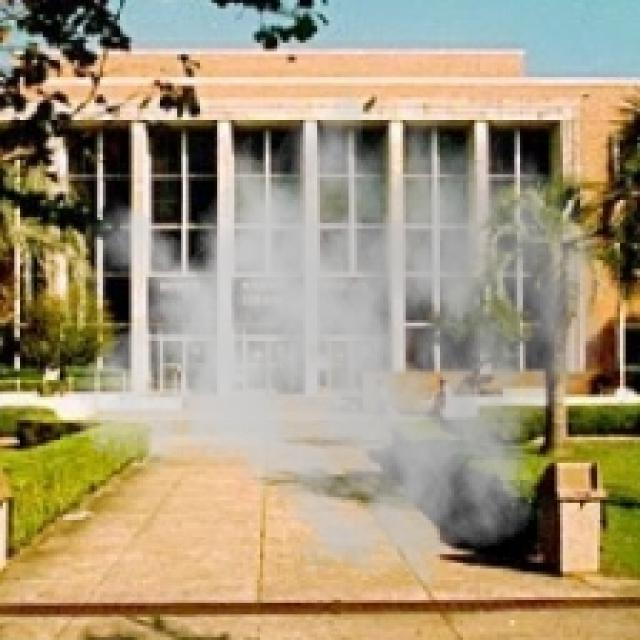smoke: (71, 57, 606, 606)
